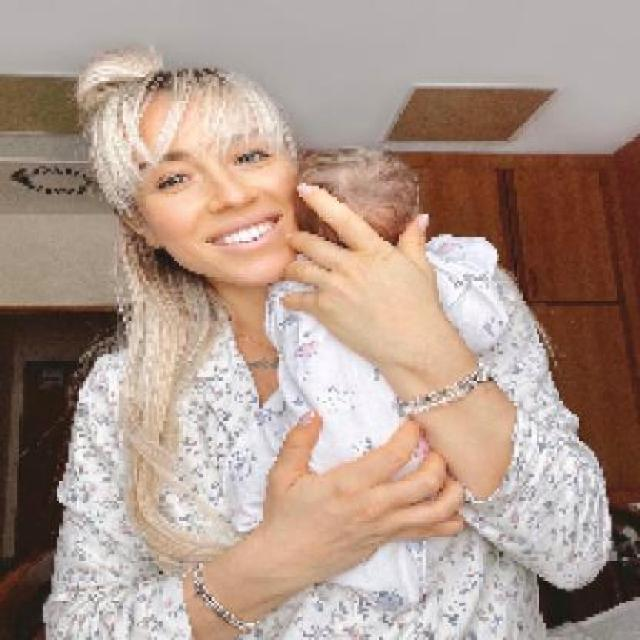child: (221, 145, 510, 606)
